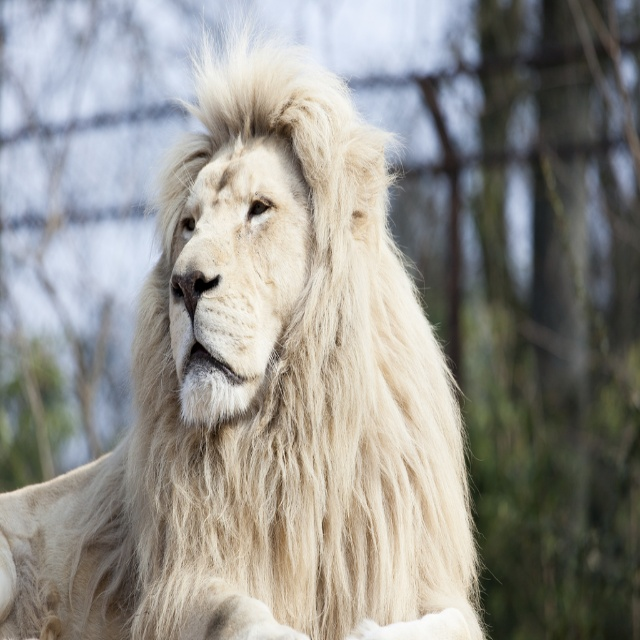Lion: (0, 0, 502, 639)
